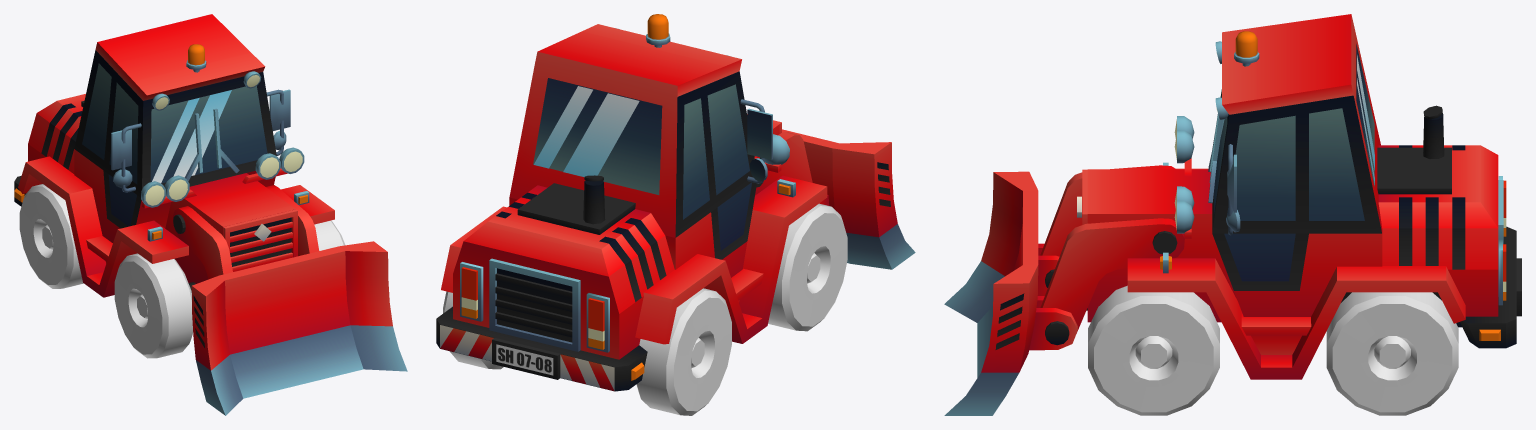
Rendered from Low Poly doz.fbx.
The picture shows the model from 3 angles, left to right: view 1: azimuth 30°, elevation 25°; view 2: azimuth 150°, elevation 25°; view 3: azimuth 270°, elevation 25°; orthographic projection. The views are drawn at different scales.
Visible parts, largest first — view 1: SHTV_Model_Car_Bulldozer_SHTV_Material_Cars_Yellow_0, SHTV_Model_Wheel_Bulldozer_FR_SHTV_Material_Cars_Gray_0, SHTV_Model_Wheel_Bulldozer_BR_SHTV_Material_Cars_Gray_0, SHTV_Model_Wheel_Bulldozer_FL_SHTV_Material_Cars_Gray_0; view 2: SHTV_Model_Car_Bulldozer_SHTV_Material_Cars_Yellow_0, SHTV_Model_Wheel_Bulldozer_BR_SHTV_Material_Cars_Gray_0, SHTV_Model_Wheel_Bulldozer_FR_SHTV_Material_Cars_Gray_0, SHTV_Model_Wheel_Bulldozer_BL_SHTV_Material_Cars_Gray_0; view 3: SHTV_Model_Car_Bulldozer_SHTV_Material_Cars_Yellow_0, SHTV_Model_Wheel_Bulldozer_FL_SHTV_Material_Cars_Gray_0, SHTV_Model_Wheel_Bulldozer_BL_SHTV_Material_Cars_Gray_0.
Boxes of the visible parts, x1=… form: SHTV_Model_Car_Bulldozer_SHTV_Material_Cars_Yellow_0: x1=14, y1=14, x2=407, y2=415; SHTV_Model_Wheel_Bulldozer_FR_SHTV_Material_Cars_Gray_0: x1=114, y1=253, x2=193, y2=358; SHTV_Model_Wheel_Bulldozer_BR_SHTV_Material_Cars_Gray_0: x1=19, y1=184, x2=83, y2=288; SHTV_Model_Wheel_Bulldozer_FL_SHTV_Material_Cars_Gray_0: x1=314, y1=220, x2=345, y2=250; SHTV_Model_Car_Bulldozer_SHTV_Material_Cars_Yellow_0: x1=436, y1=14, x2=915, y2=391; SHTV_Model_Wheel_Bulldozer_BR_SHTV_Material_Cars_Gray_0: x1=636, y1=288, x2=731, y2=415; SHTV_Model_Wheel_Bulldozer_FR_SHTV_Material_Cars_Gray_0: x1=768, y1=203, x2=847, y2=331; SHTV_Model_Wheel_Bulldozer_BL_SHTV_Material_Cars_Gray_0: x1=443, y1=291, x2=503, y2=369; SHTV_Model_Car_Bulldozer_SHTV_Material_Cars_Yellow_0: x1=944, y1=14, x2=1521, y2=415; SHTV_Model_Wheel_Bulldozer_FL_SHTV_Material_Cars_Gray_0: x1=1088, y1=285, x2=1219, y2=415; SHTV_Model_Wheel_Bulldozer_BL_SHTV_Material_Cars_Gray_0: x1=1326, y1=292, x2=1458, y2=415.
Bounding box in the file's own units: 2.08 × 2.73 × 4.37.
